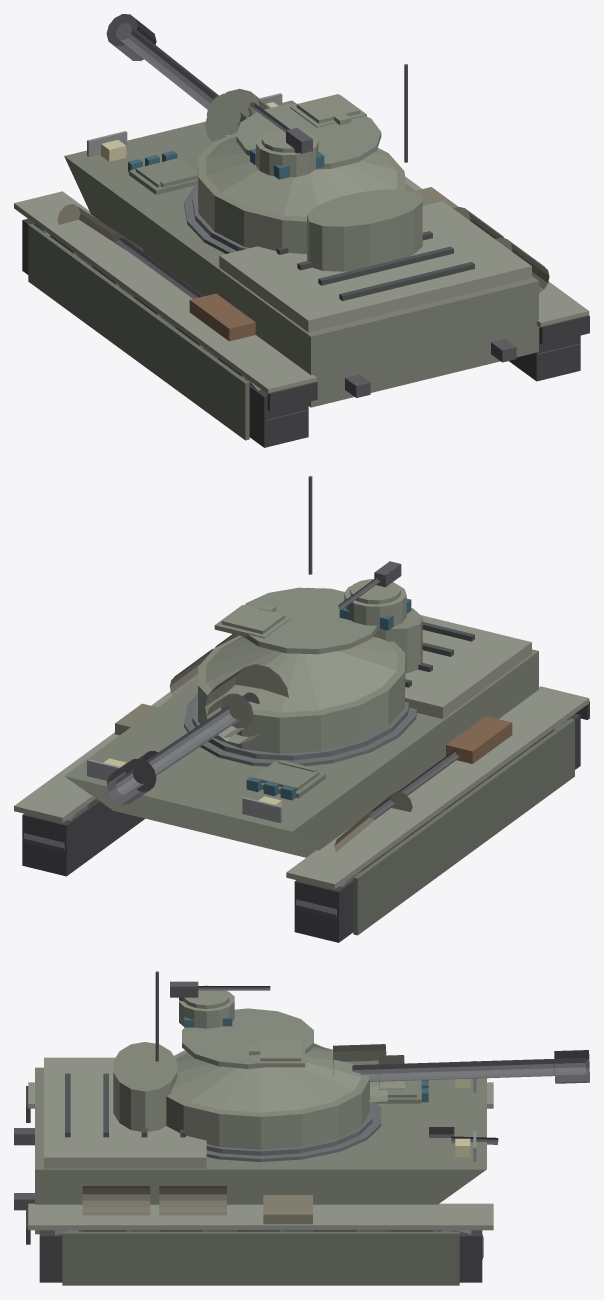
Rendered from soviet_tank.glb.
3 views of the same model, one above another, from view 1: azimuth 30°, elevation 25°; view 2: azimuth 150°, elevation 25°; view 3: azimuth 270°, elevation 25° (orthographic). The views are drawn at different scales.
Visible parts, largest first — view 1: hull, turret, engine_deck, skirt_l, fender_l, track_l, grille, barrel, track_r, cupola, muffler, mantlet (+12 smaller); view 2: hull, turret, skirt_l, fender_l, engine_deck, track_r, turret_ring, track_l, fender_r, mantlet, barrel, cupola (+10 smaller); view 3: turret, hull, skirt_r, engine_deck, fender_r, barrel, track_r, turret_ring, fuel_drum1, fuel_drum2, mantlet, cupola (+8 smaller).
Part boxes in pixels (x1=…): hull: x1=64, y1=100, x2=538, y2=407; turret: x1=198, y1=103, x2=422, y2=271; engine_deck: x1=219, y1=201, x2=531, y2=332; skirt_l: x1=28, y1=223, x2=249, y2=440; fender_l: x1=14, y1=191, x2=316, y2=394; track_l: x1=22, y1=219, x2=308, y2=447; grille: x1=276, y1=231, x2=474, y2=300; barrel: x1=116, y1=23, x2=246, y2=132; track_r: x1=509, y1=327, x2=580, y2=381; cupola: x1=256, y1=127, x2=318, y2=177; muffler: x1=189, y1=293, x2=255, y2=341; mantlet: x1=205, y1=88, x2=270, y2=141; hull: x1=64, y1=649, x2=538, y2=857; turret: x1=198, y1=587, x2=422, y2=753; skirt_l: x1=353, y1=718, x2=574, y2=935; fender_l: x1=286, y1=686, x2=589, y2=889; engine_deck: x1=308, y1=587, x2=531, y2=718; track_r: x1=22, y1=800, x2=144, y2=876; turret_ring: x1=184, y1=693, x2=416, y2=766; track_l: x1=294, y1=713, x2=580, y2=942; fender_r: x1=14, y1=691, x2=172, y2=822; mantlet: x1=205, y1=664, x2=288, y2=743; barrel: x1=116, y1=692, x2=259, y2=795; cupola: x1=344, y1=579, x2=406, y2=629; turret: x1=113, y1=1008, x2=369, y2=1149; hull: x1=35, y1=1067, x2=486, y2=1234; skirt_r: x1=62, y1=1231, x2=459, y2=1285; engine_deck: x1=44, y1=1057, x2=206, y2=1168; fender_r: x1=28, y1=1203, x2=493, y2=1230; barrel: x1=352, y1=1058, x2=586, y2=1081; track_r: x1=39, y1=1230, x2=482, y2=1282; turret_ring: x1=206, y1=1102, x2=381, y2=1161; fuel_drum1: x1=82, y1=1186, x2=150, y2=1215; fuel_drum2: x1=159, y1=1186, x2=226, y2=1215; mantlet: x1=333, y1=1044, x2=405, y2=1101; cupola: x1=179, y1=985, x2=234, y2=1028.
Size of the model in its own units: 4.62 by 3.83 by 7.65.
